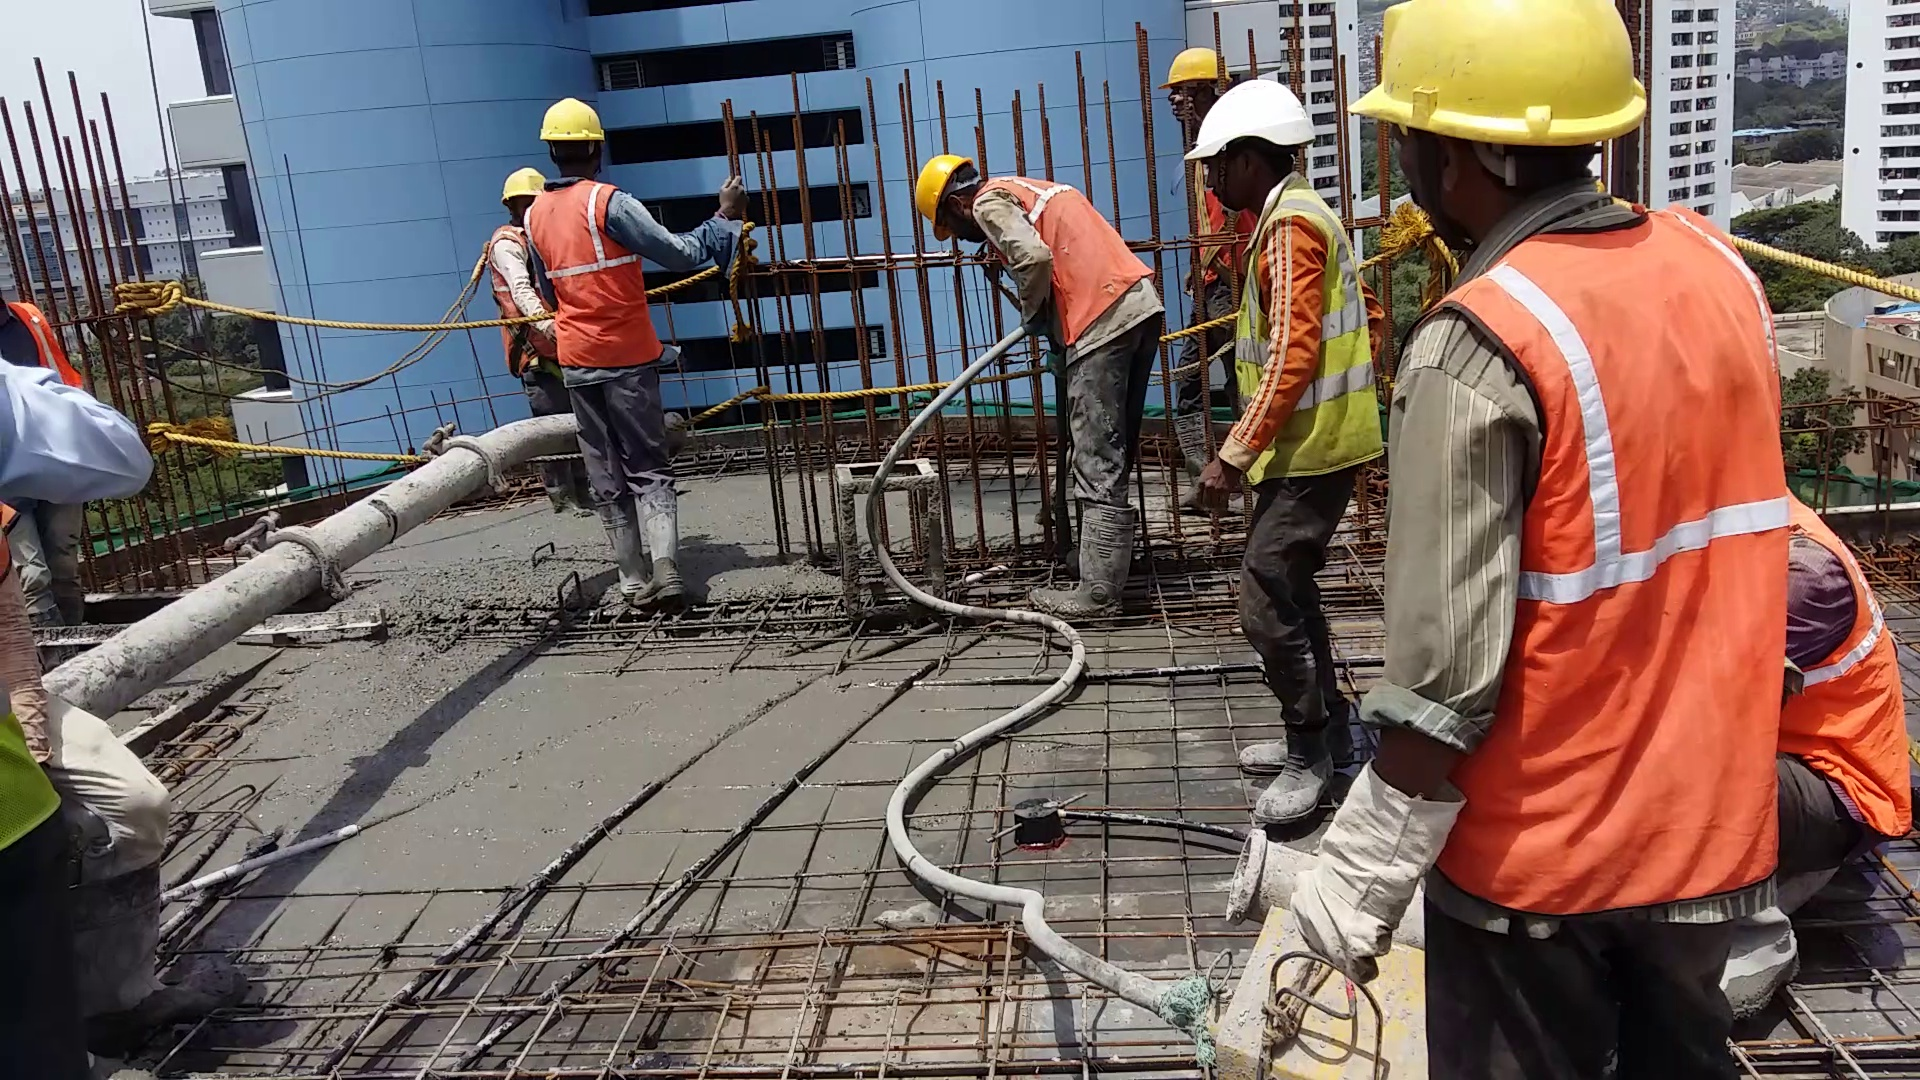SAFE: (1371, 5, 1792, 913), (1212, 73, 1371, 477), (909, 152, 1153, 349), (535, 94, 659, 377)
